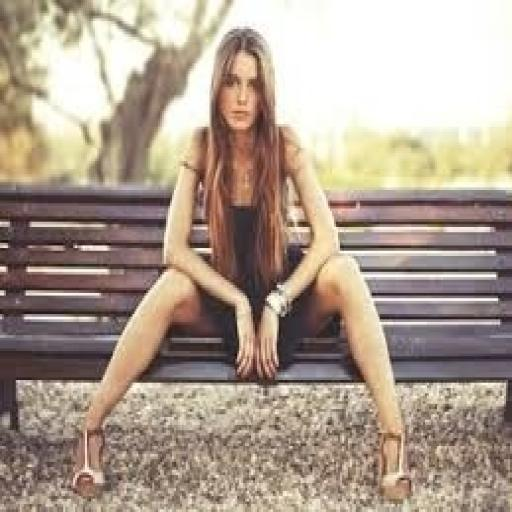sitting: (67, 24, 415, 504)
